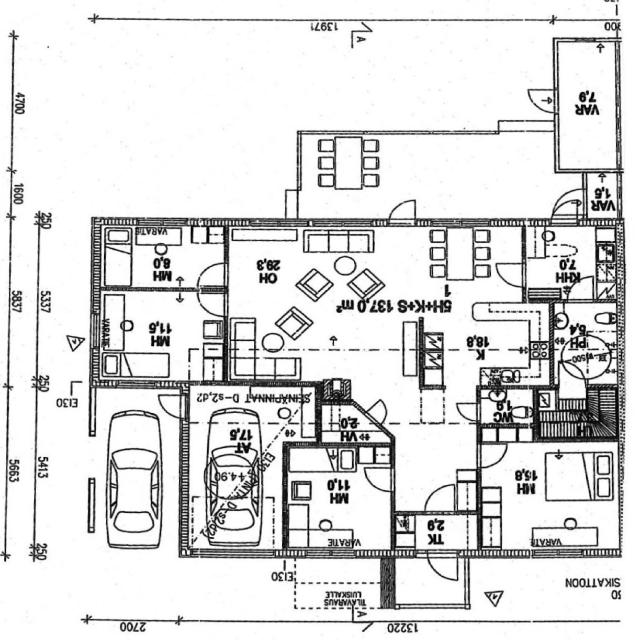door: (520, 82, 560, 116), (425, 548, 461, 585), (192, 259, 234, 290), (549, 191, 586, 226), (194, 287, 232, 320), (422, 482, 459, 515), (360, 464, 398, 494), (384, 196, 424, 224), (492, 260, 528, 290), (563, 275, 599, 304), (474, 442, 510, 470), (62, 0, 99, 23), (452, 398, 482, 424)
window: (233, 217, 299, 238), (218, 543, 276, 563), (86, 307, 100, 349)
zone: (224, 227, 451, 331), (333, 132, 564, 220), (476, 438, 620, 556), (95, 288, 226, 383), (285, 442, 393, 554), (418, 306, 552, 387), (101, 401, 162, 556), (554, 41, 622, 172), (102, 226, 230, 290), (204, 452, 262, 552), (524, 225, 610, 292), (552, 300, 622, 380), (393, 512, 481, 554), (535, 392, 611, 439), (480, 386, 540, 434), (583, 170, 624, 223)
